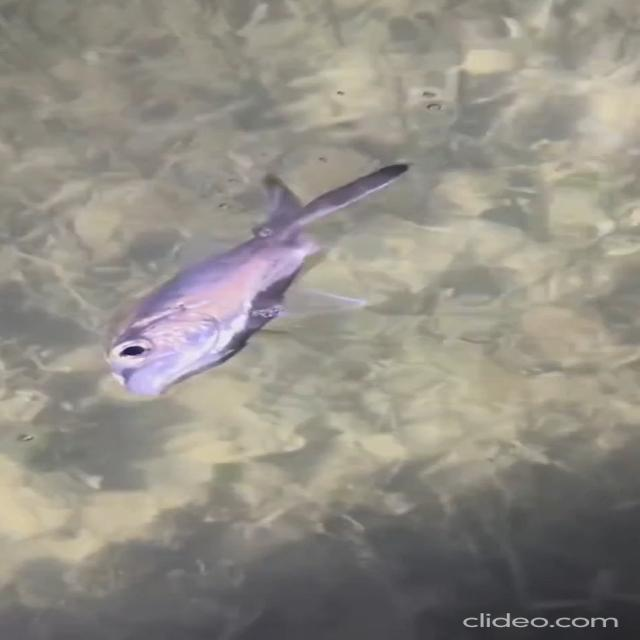fish: (91, 148, 429, 412)
